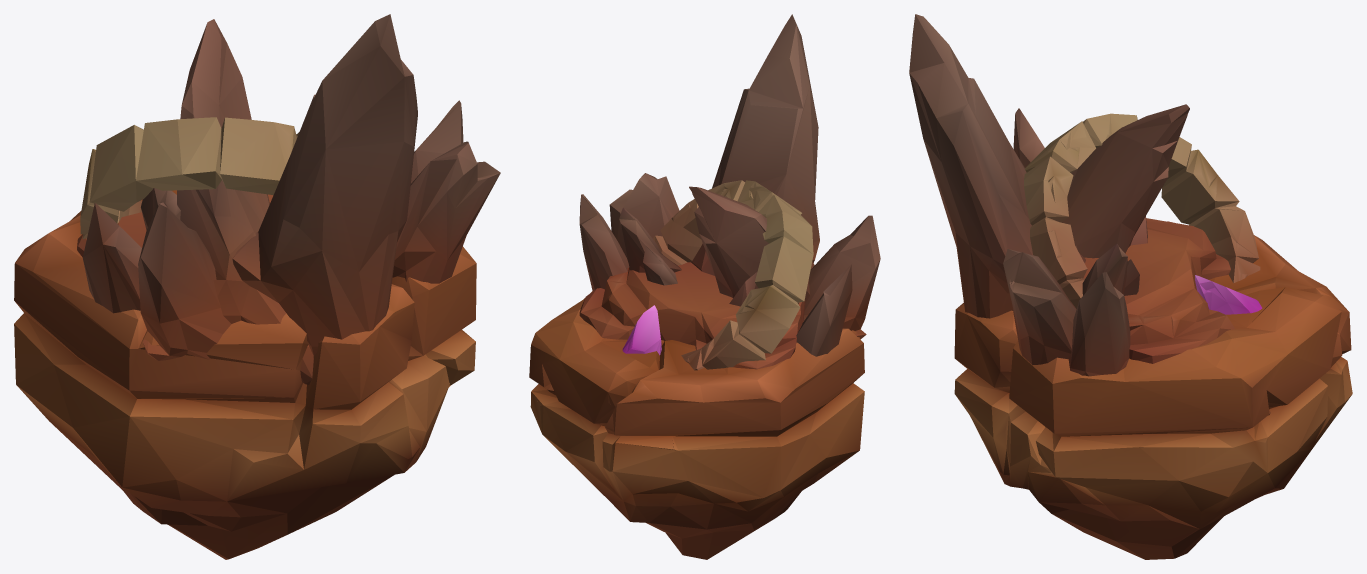
The model's file is Water.fbx.
3 renders of one model, left to right at view 1: azimuth 30°, elevation 25°; view 2: azimuth 150°, elevation 25°; view 3: azimuth 270°, elevation 25°, orthographic. The views are drawn at different scales.
Visible parts, largest first — view 1: Merged_Recovered_Tool4; view 2: Merged_Recovered_Tool4, Merged_Recovered_Tool5; view 3: Merged_Recovered_Tool4, Merged_Recovered_Tool5.
Boxes of the visible parts, x1,y1,x2,y2 form: Merged_Recovered_Tool4: [14, 14, 500, 559]; Merged_Recovered_Tool4: [529, 14, 880, 559]; Merged_Recovered_Tool5: [622, 305, 661, 355]; Merged_Recovered_Tool4: [909, 14, 1352, 559]; Merged_Recovered_Tool5: [1195, 275, 1262, 314].
Size of the model in its own units: 1.85 by 3.06 by 2.22.
